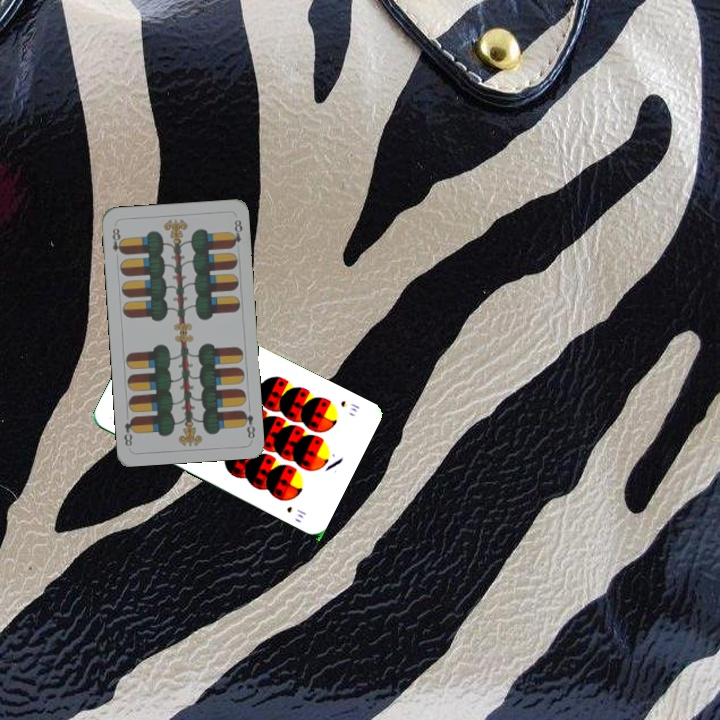E8: (238, 406, 258, 441), (108, 222, 126, 257)
S10: (336, 396, 362, 415)
